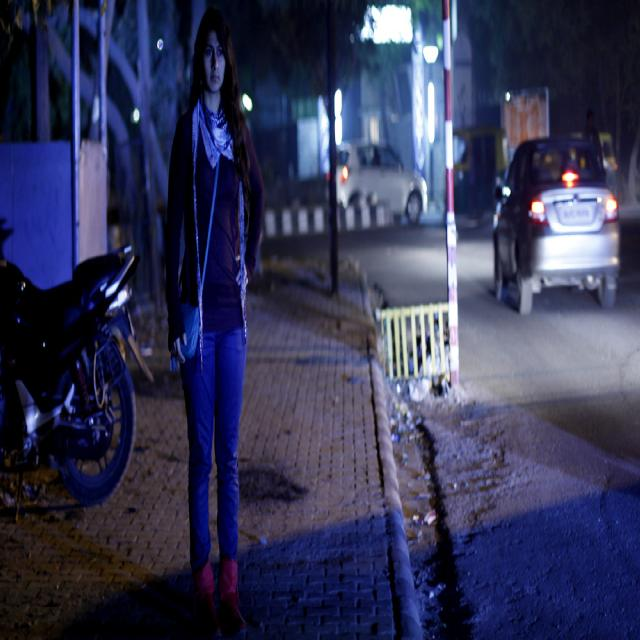Motorbike: (0, 209, 154, 516)
